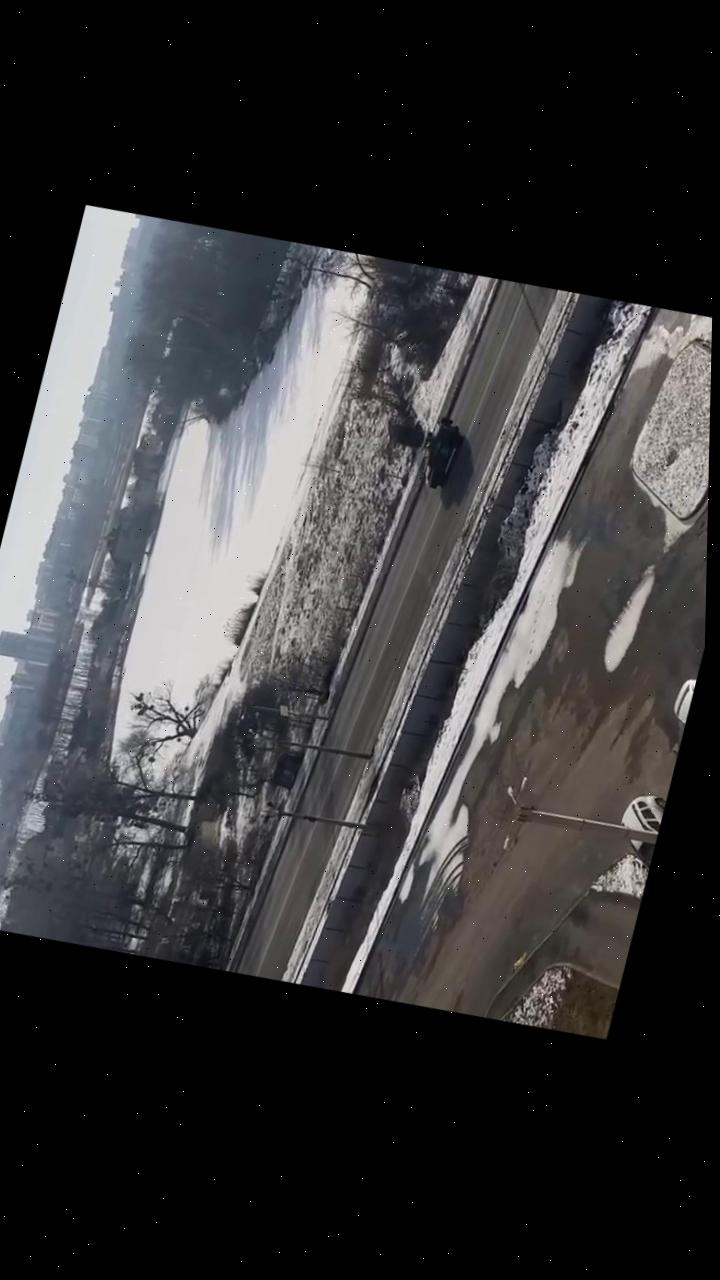armored_car: (412, 411, 468, 492)
